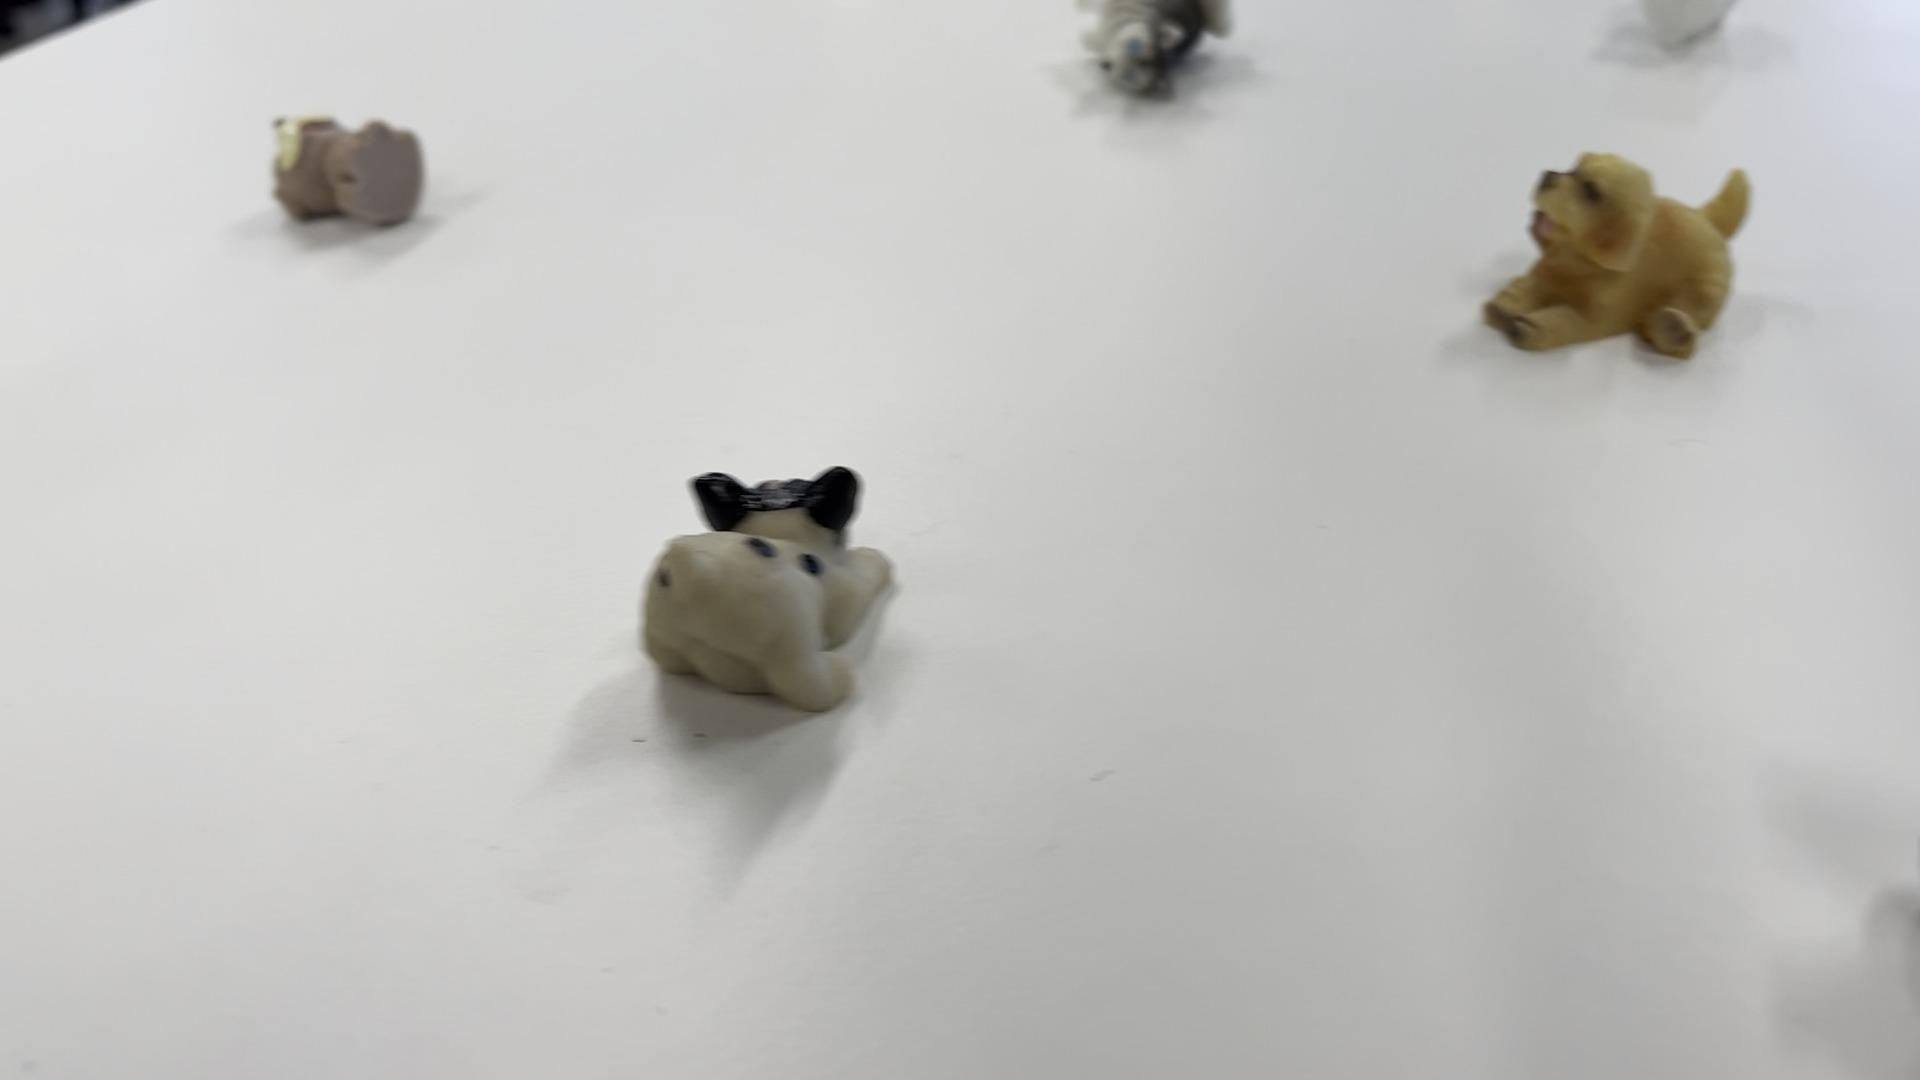pet: (630, 458, 903, 717), (1469, 135, 1760, 371), (258, 98, 433, 232), (1073, 0, 1244, 112)
